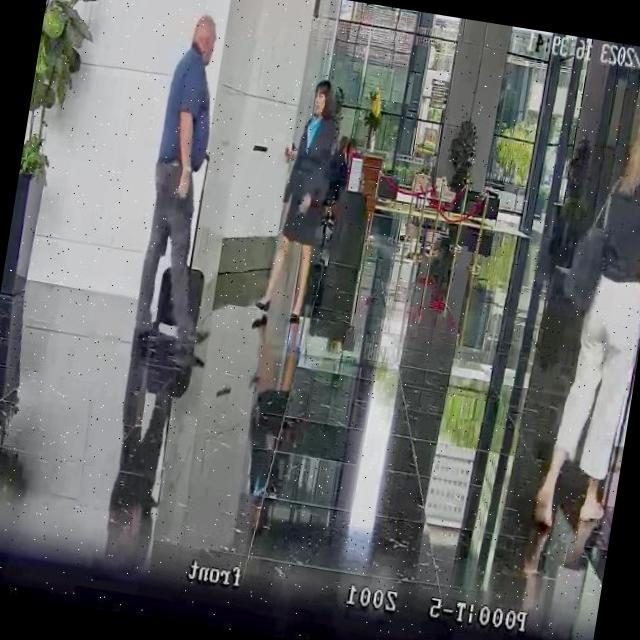person: (533, 106, 640, 535), (128, 11, 248, 354), (253, 75, 348, 326), (328, 133, 353, 198)
